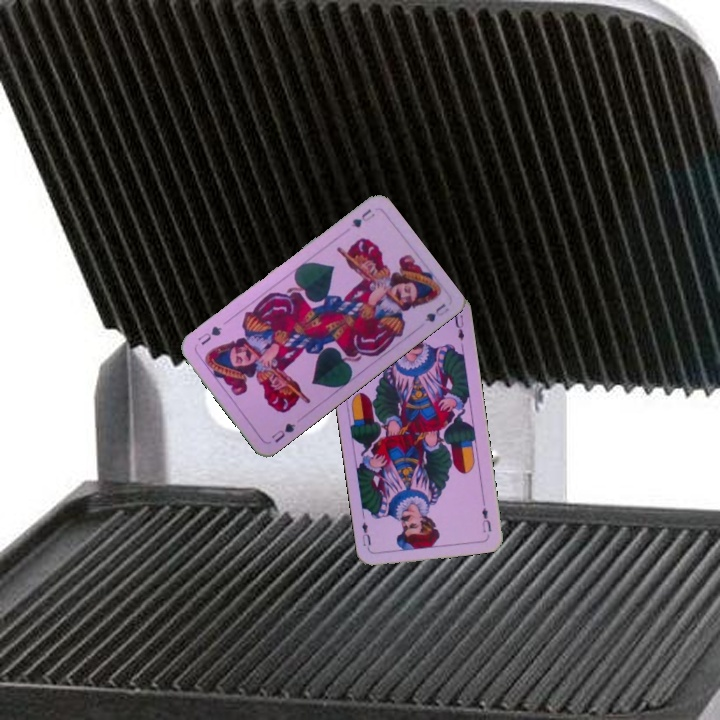EU: (478, 503, 494, 535)
GU: (267, 419, 298, 446), (347, 204, 378, 230)
